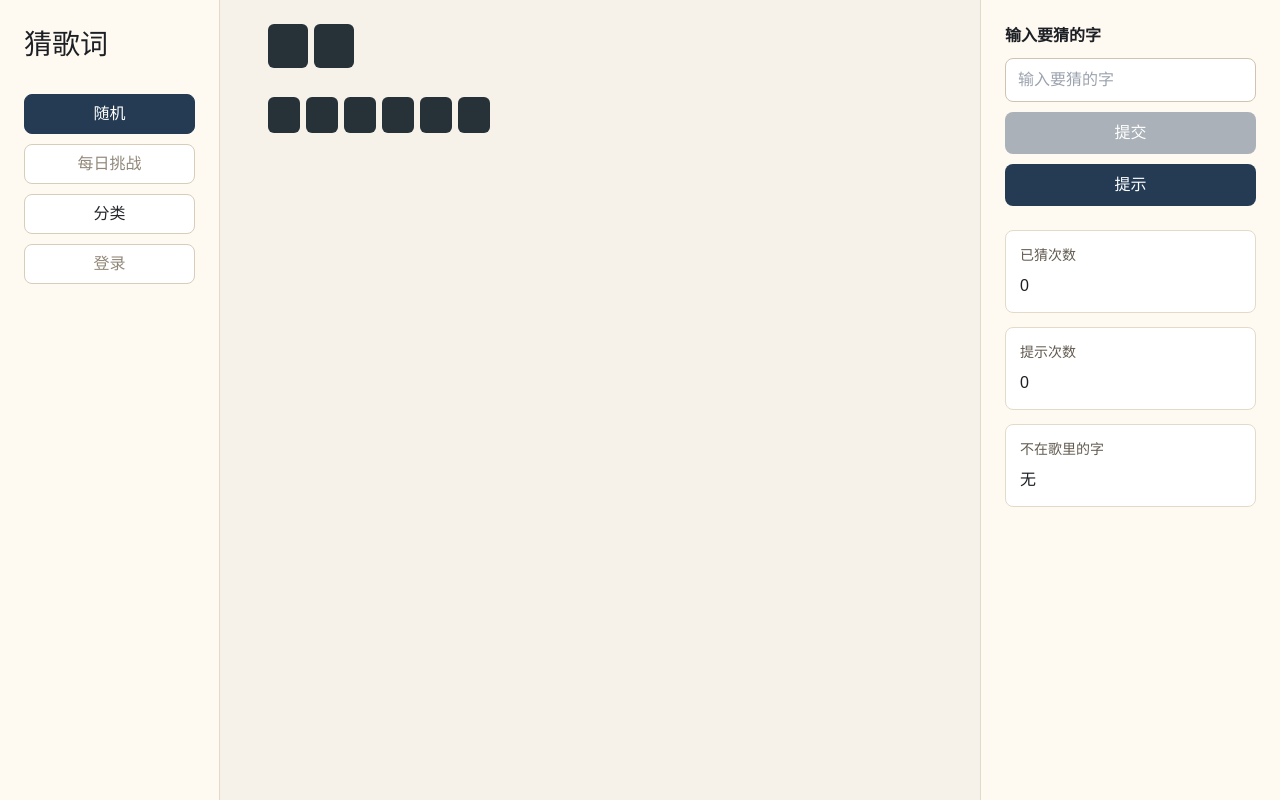
LyricGame › reveals guessed title characters and wins when the full title is revealed
The width and height of the screenshot is (1280, 800).
Expected: the text "晴" is not shown
Type "晴" into the field labelled "输入要猜的字" at (1130, 80), box [1005,58,1256,102]
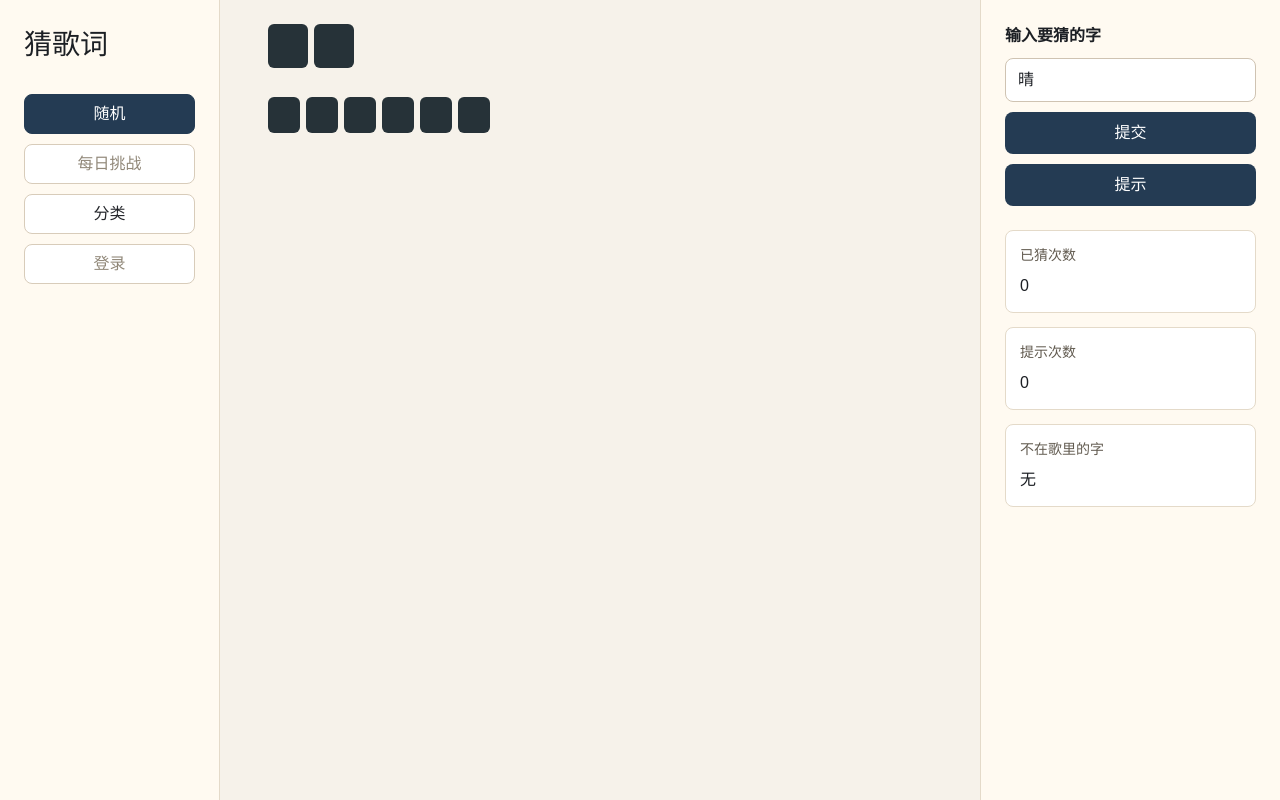
Click the button "提交" at (1130, 133), box [1005,112,1256,154]
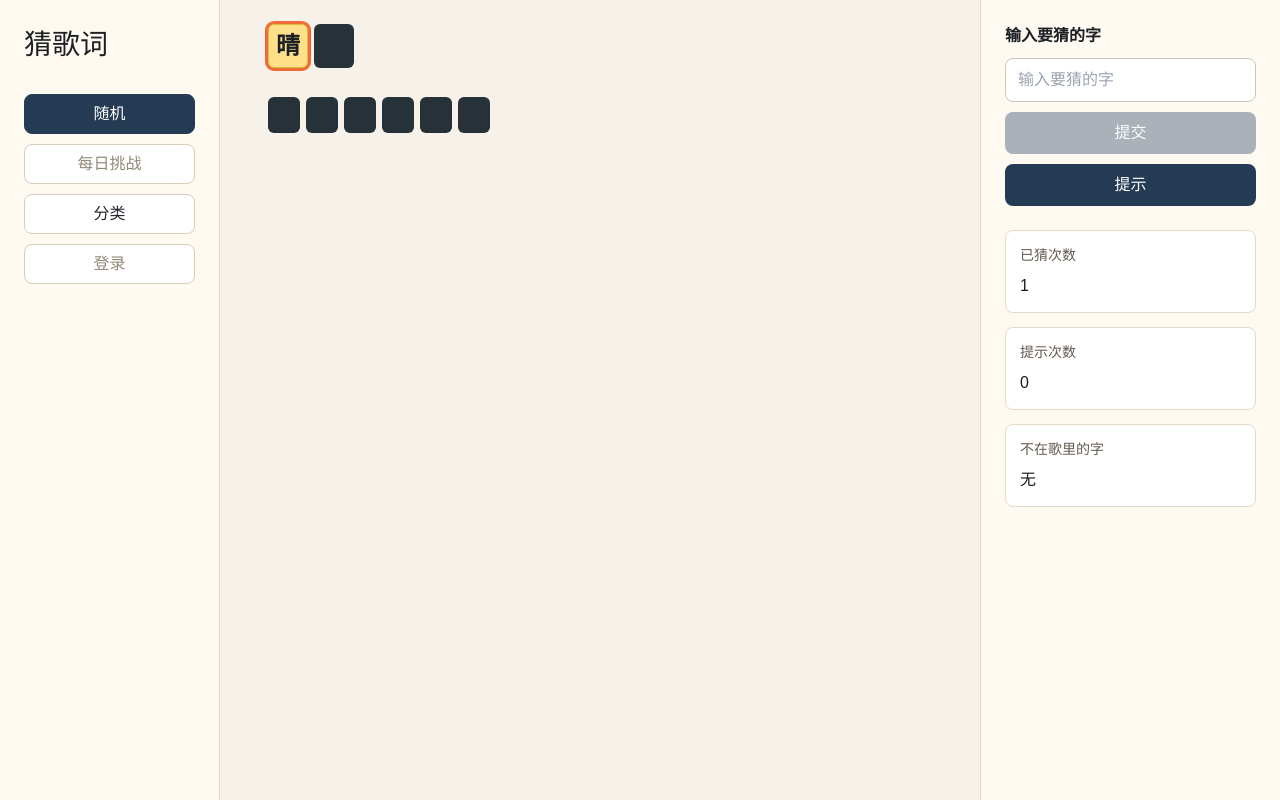
Expected: the text "天" is not shown
Result: the text "晴" is shown at [268,24,308,68]
Type "天" into the field labelled "输入要猜的字" at (1130, 80), box [1005,58,1256,102]
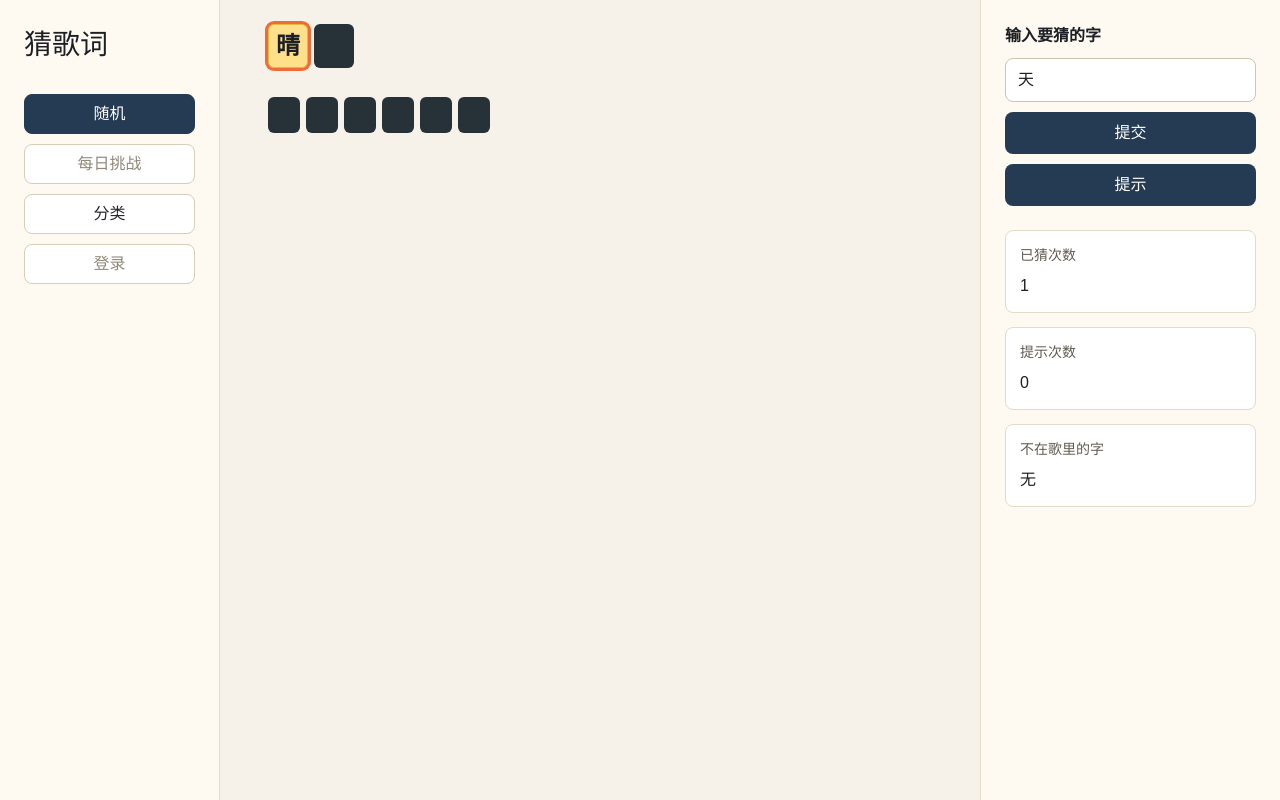
Click the button "提交" at (1130, 133), box [1005,112,1256,154]
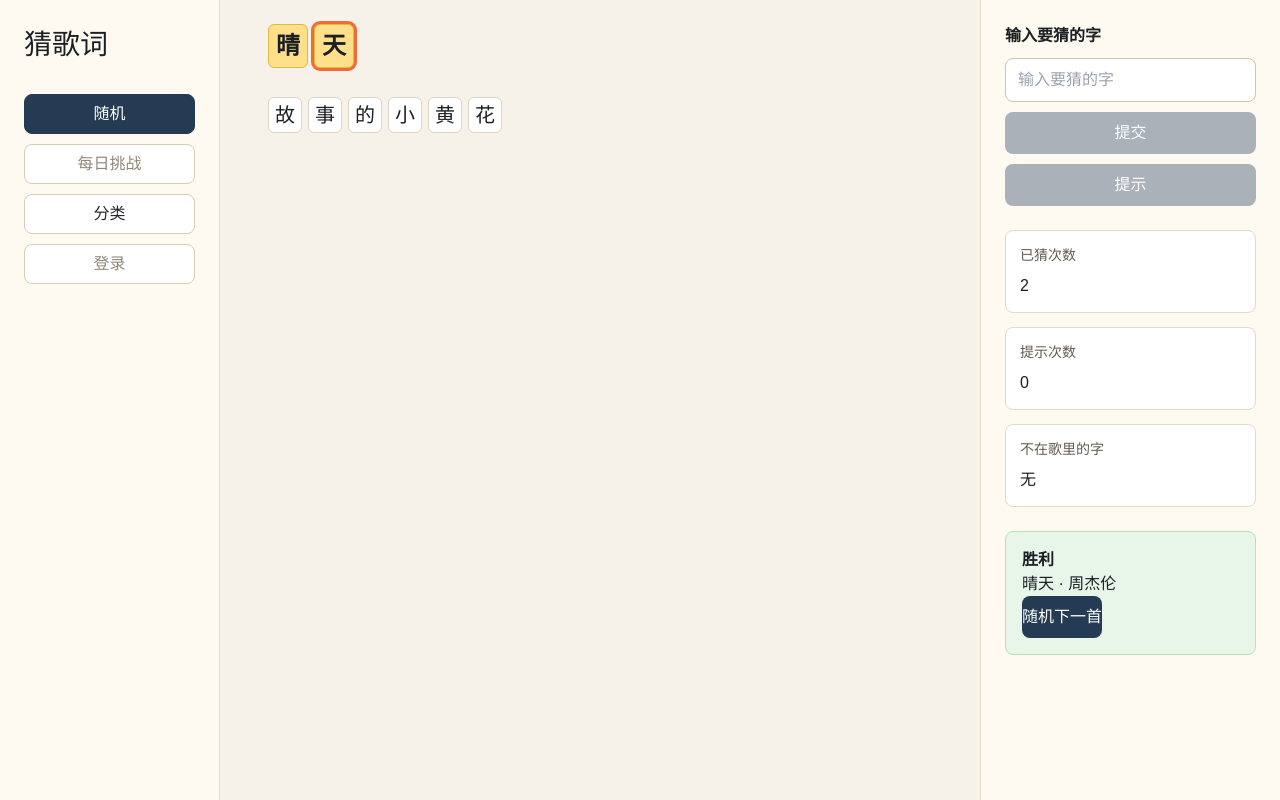
Result: the text "胜利" is shown at [1022,551,1054,568]
Result: the element named "歌词行 1" reads "故 事 的 小 黄 花" at [268,97,502,133]
